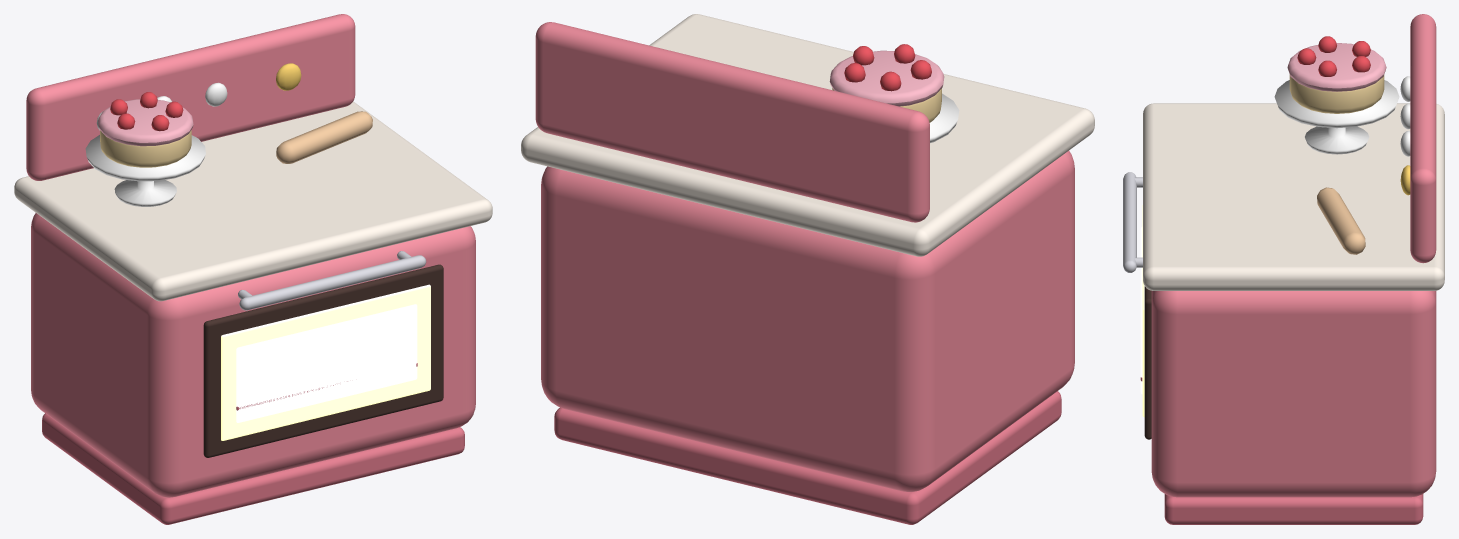
Rendered from station_oven.glb.
The picture shows the model from 3 angles, left to right: view 1: azimuth 30°, elevation 25°; view 2: azimuth 150°, elevation 25°; view 3: azimuth 270°, elevation 25°; orthographic projection. The views are drawn at different scales.
Parts seen in each view (by area): view 1: BakeryOven, Cooking; view 2: BakeryOven; view 3: BakeryOven, Cooking.
Boxes of the visible parts, box(x1,y1,x2,y2) form: BakeryOven: box(14, 14, 492, 524); Cooking: box(236, 304, 417, 422); BakeryOven: box(521, 14, 1094, 524); BakeryOven: box(1123, 14, 1444, 524); Cooking: box(1140, 226, 1142, 394).
Bounding box in the file's own units: 0.94 × 0.92 × 0.746.
